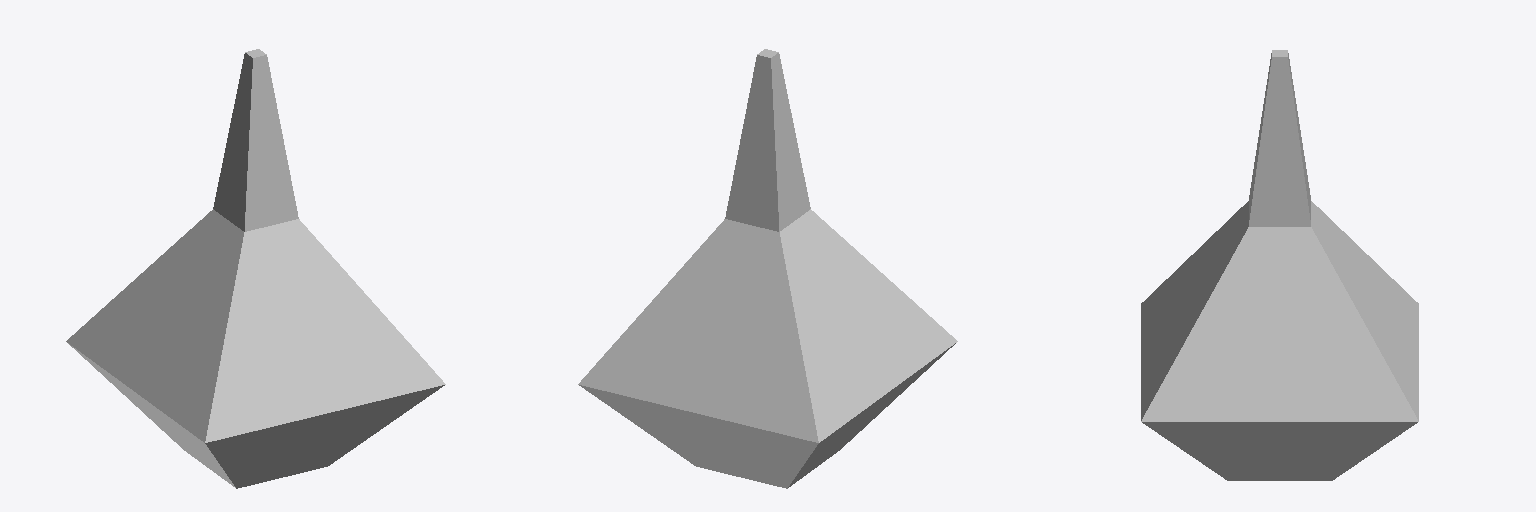
Rendered from tower.obj.
3 renders of one model, left to right at view 1: azimuth 30°, elevation 25°; view 2: azimuth 150°, elevation 25°; view 3: azimuth 270°, elevation 25°, orthographic.
Parts seen in each view (by area): view 1: Cube_Cube.001; view 2: Cube_Cube.001; view 3: Cube_Cube.001.
Boxes of the visible parts, box(x1,y1,x2,y2) form: Cube_Cube.001: box(66, 49, 445, 488); Cube_Cube.001: box(578, 49, 957, 488); Cube_Cube.001: box(1141, 50, 1418, 480).
Bounding box in the file's own units: 5.28 × 8.48 × 5.28.